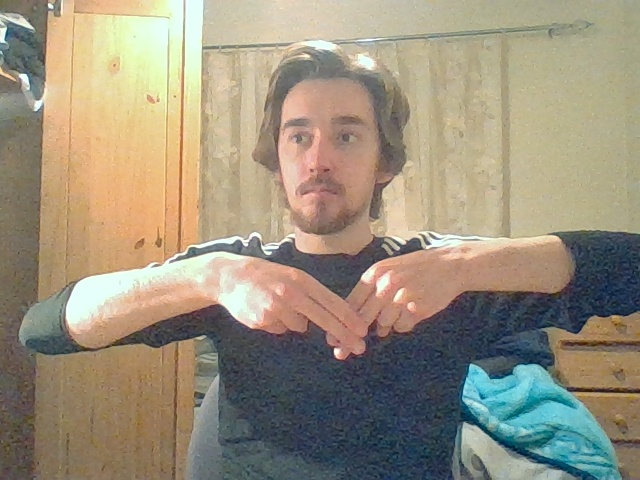father: (296, 264, 394, 363)
